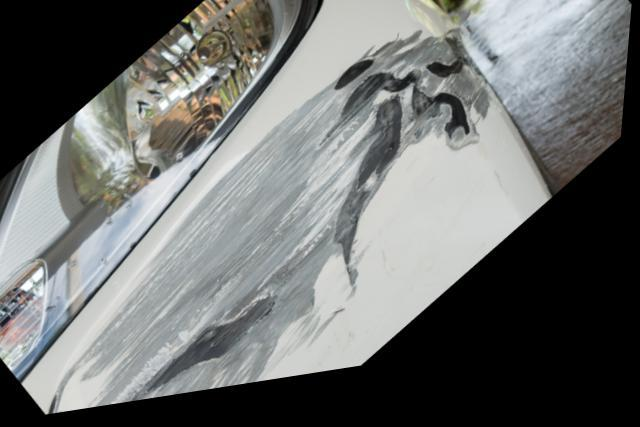scratch: (53, 35, 498, 417)
